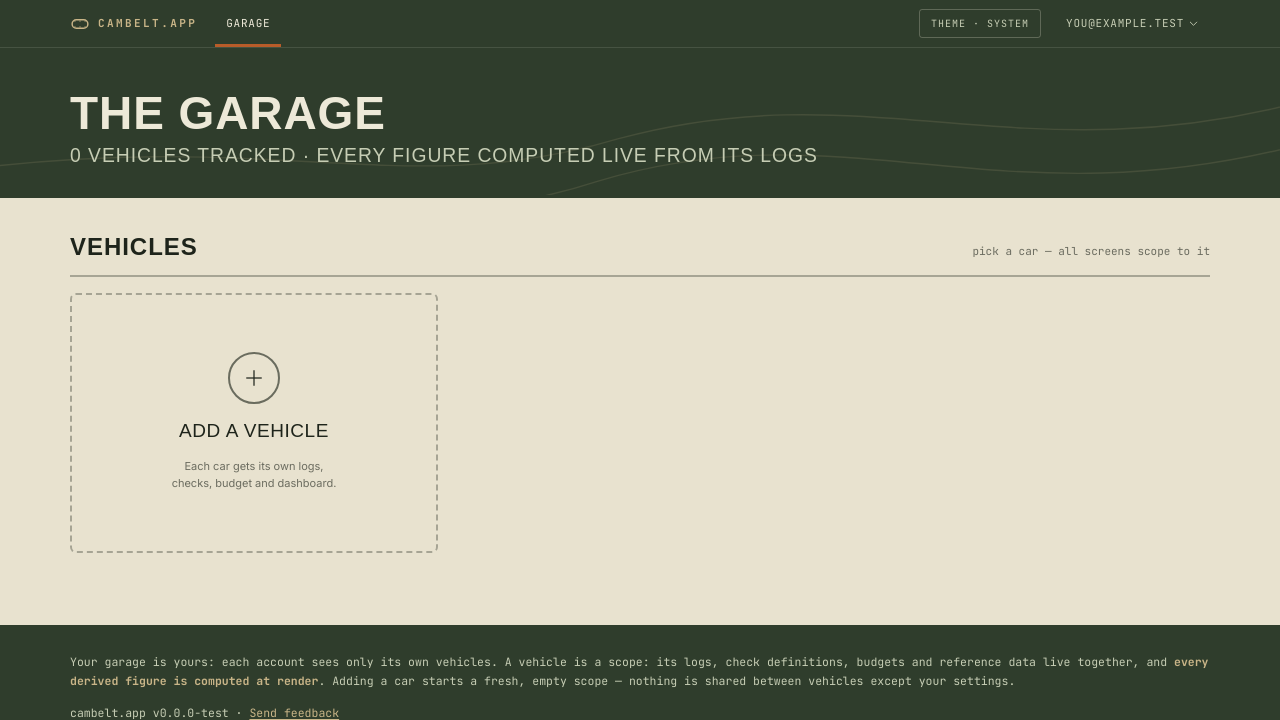
Test: the add-vehicle sheet › does not blank a typed field with a null the DVLA did not return
Click the button "Add a vehicle": (254, 422) [70,292,438,552]
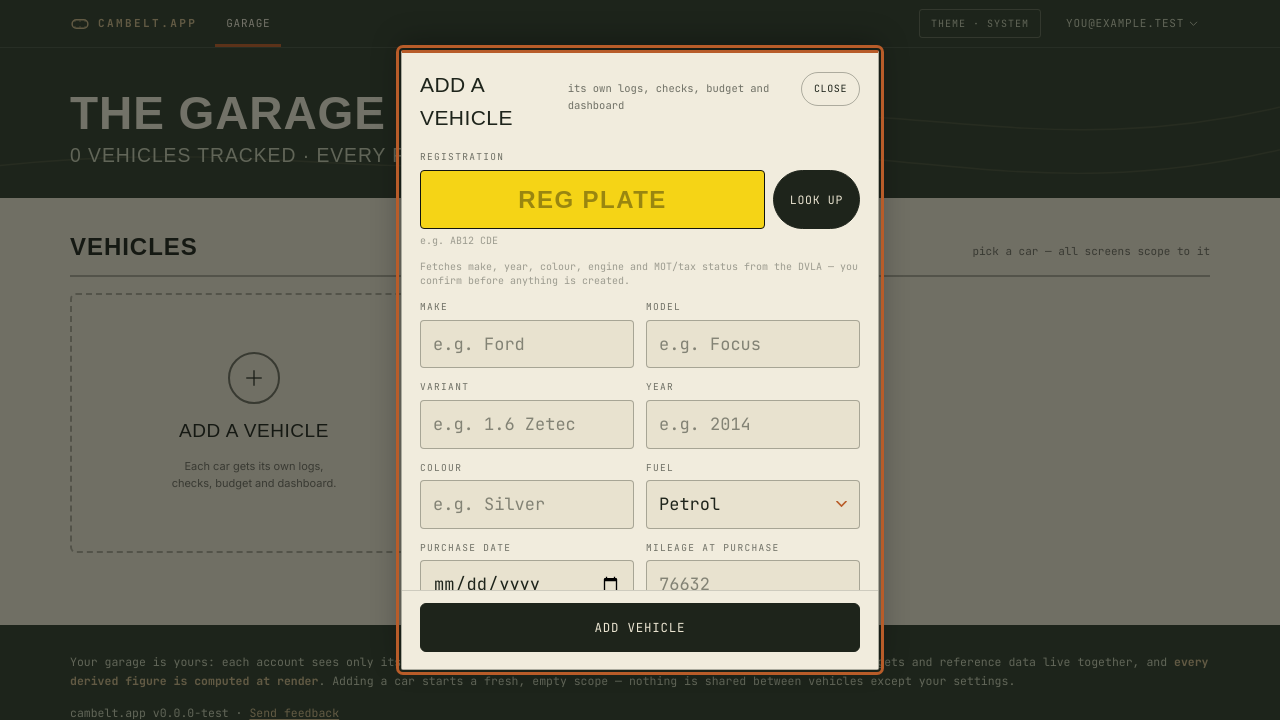
In the field labelled "Model": (753, 344) [646,320,860,368], type "Freelander 1"
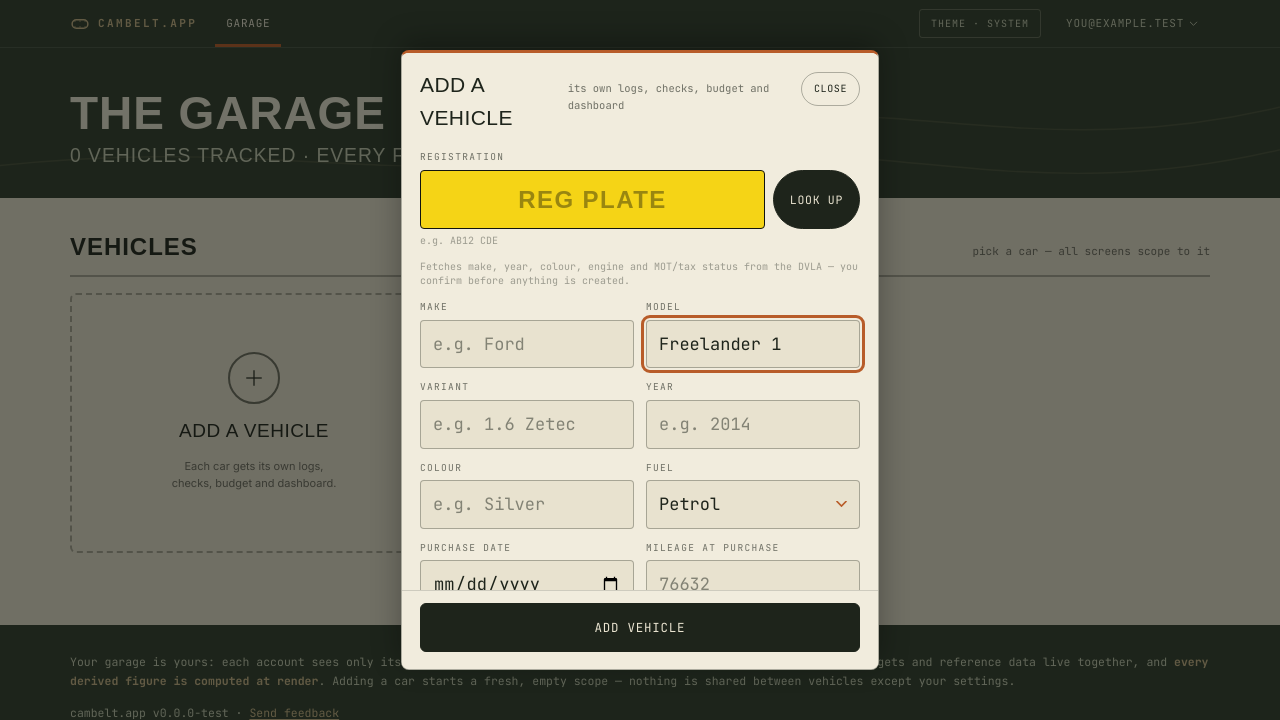
In the field labelled "Registration": (592, 200) [420,170,765,229], type "BT53AKJ"
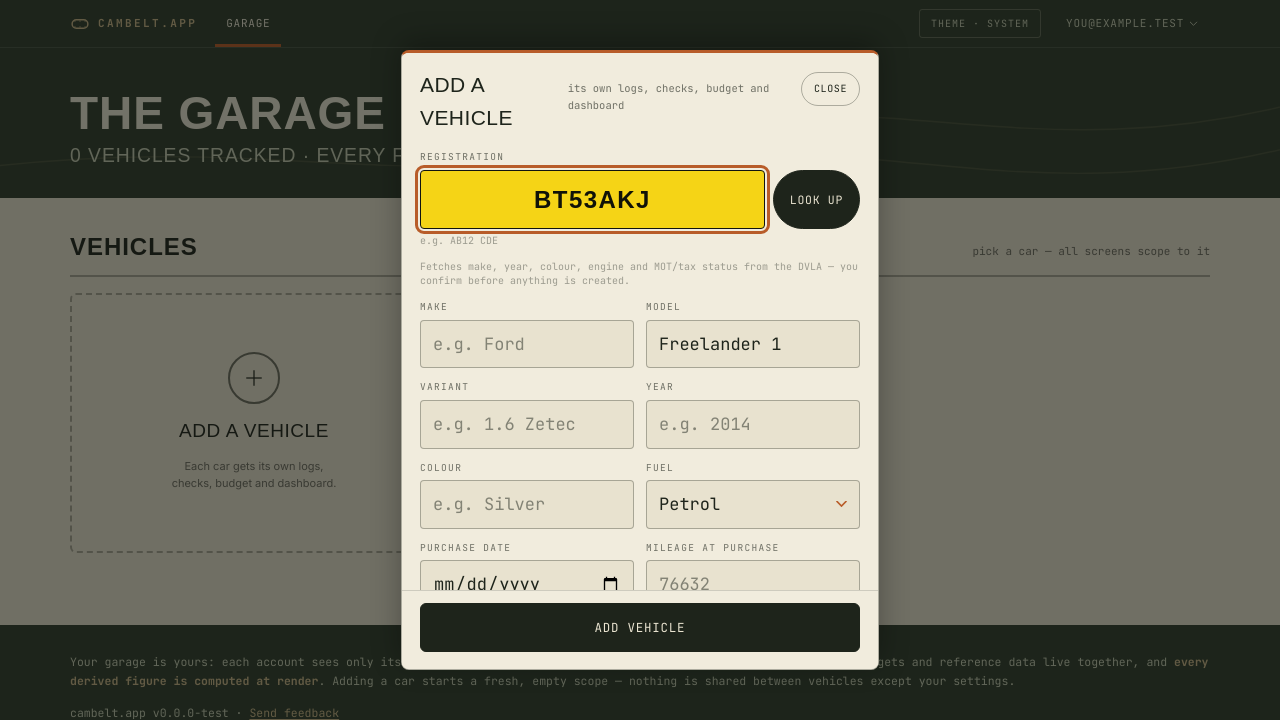
Click the button "Look up": (816, 200) [773,170,860,229]
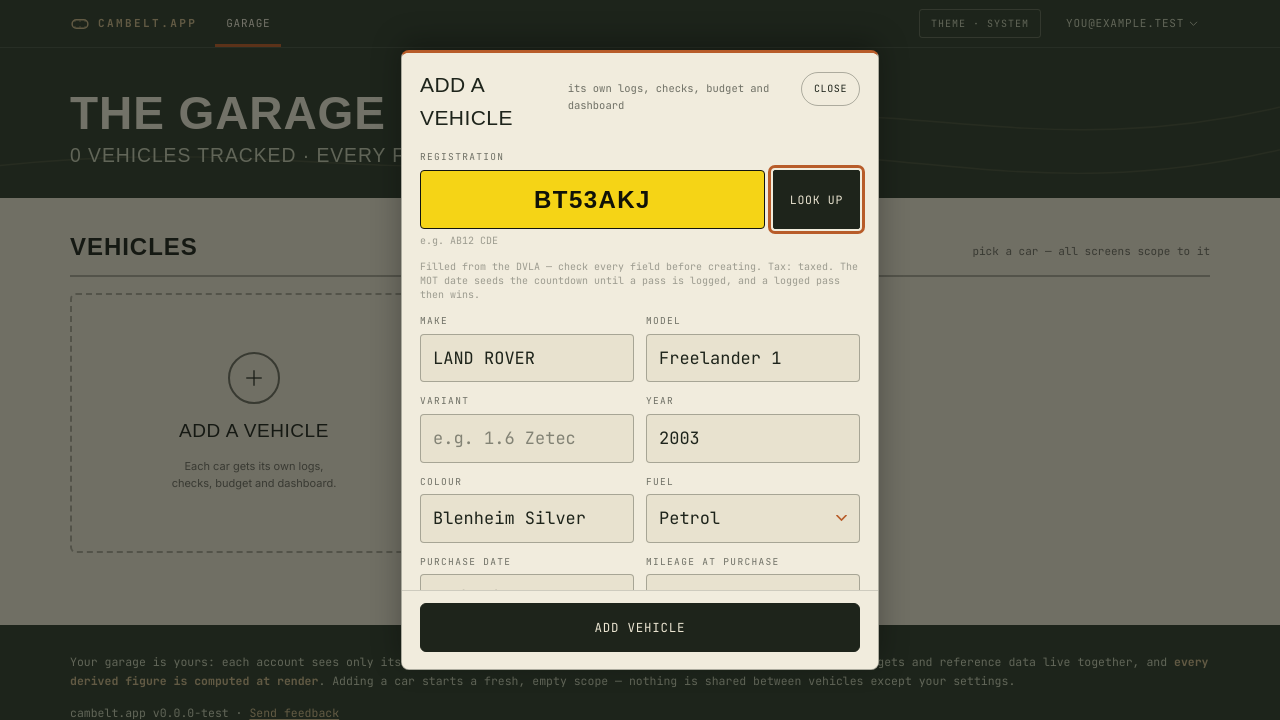
Expected: the field showing "LAND ROVER" is shown, [420,334,634,382]
